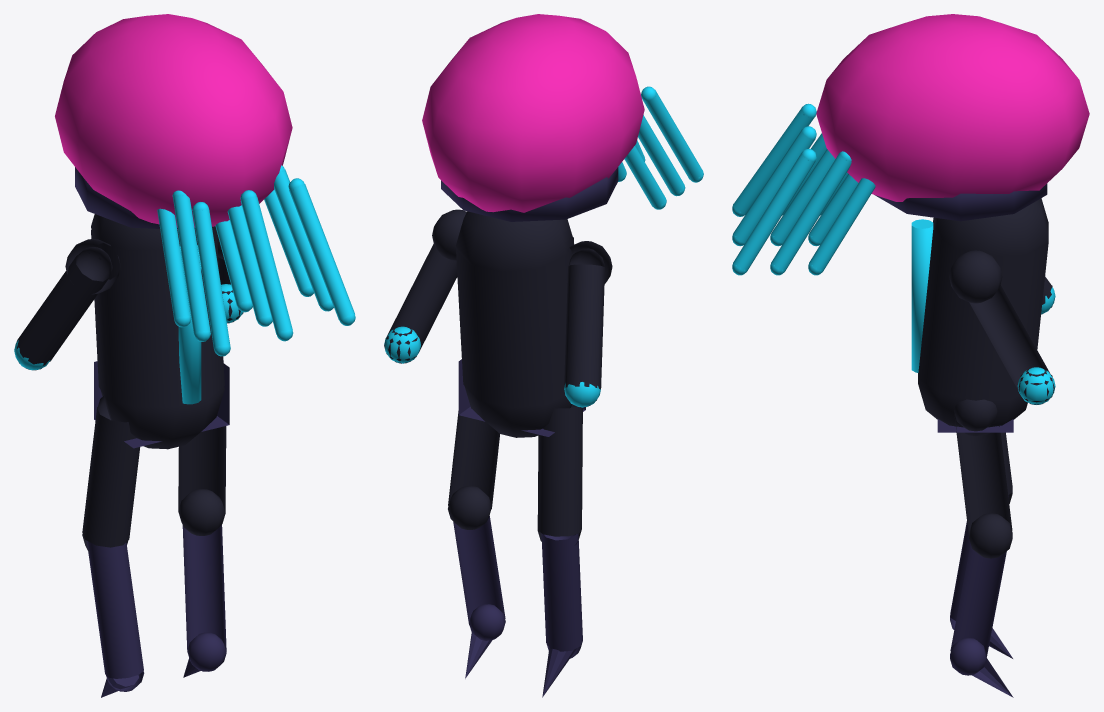
The model's file is Alien_Smart.obj.
3 renders of one model, left to right at view 1: azimuth 30°, elevation 25°; view 2: azimuth 150°, elevation 25°; view 3: azimuth 270°, elevation 25°, orthographic. The views are drawn at different scales.
Visible parts, largest first — view 1: Alien_Smart; view 2: Alien_Smart; view 3: Alien_Smart.
Boxes of the visible parts, left/top/right/bottom form: Alien_Smart: left=14, top=14, right=355, bottom=697; Alien_Smart: left=384, top=14, right=703, bottom=697; Alien_Smart: left=732, top=14, right=1089, bottom=697.
Bounding box in the file's own units: 0.66 × 1.9 × 0.9409.
